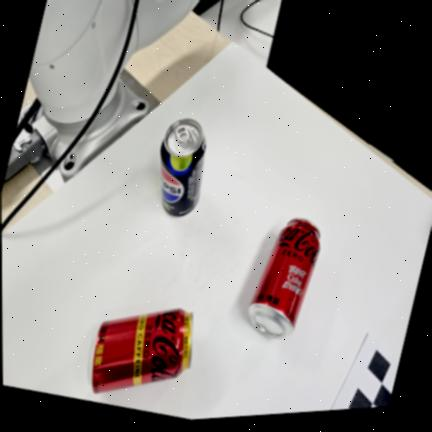can_coke_decaf: (88, 308, 193, 393)
can_coke_zero: (248, 218, 320, 338)
can_pepsi_zero: (160, 119, 206, 216)
